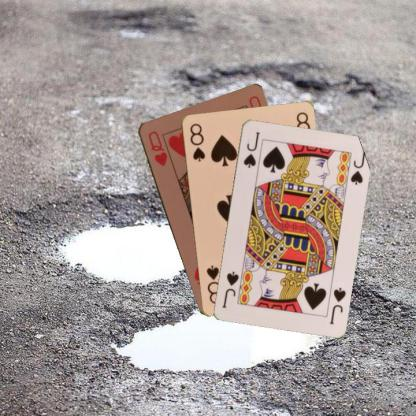8s: (187, 120, 206, 163)
Js: (240, 129, 262, 169), (326, 284, 346, 326)
Qh: (145, 128, 168, 169)
